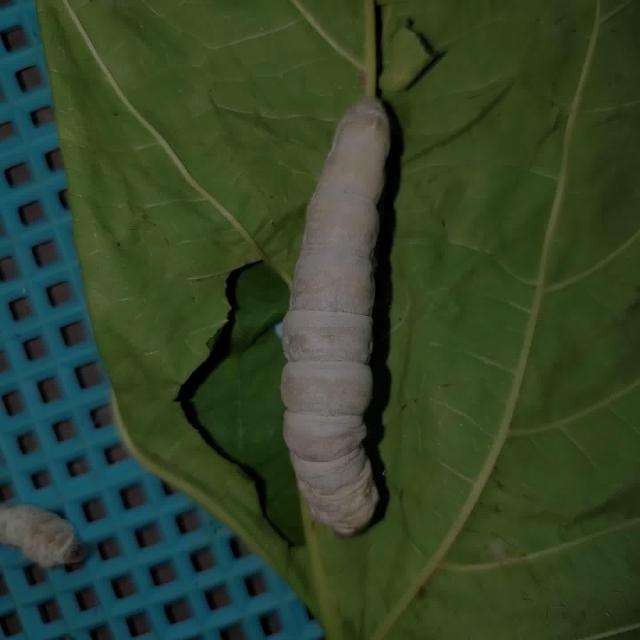Grasserie: (267, 70, 447, 549)
